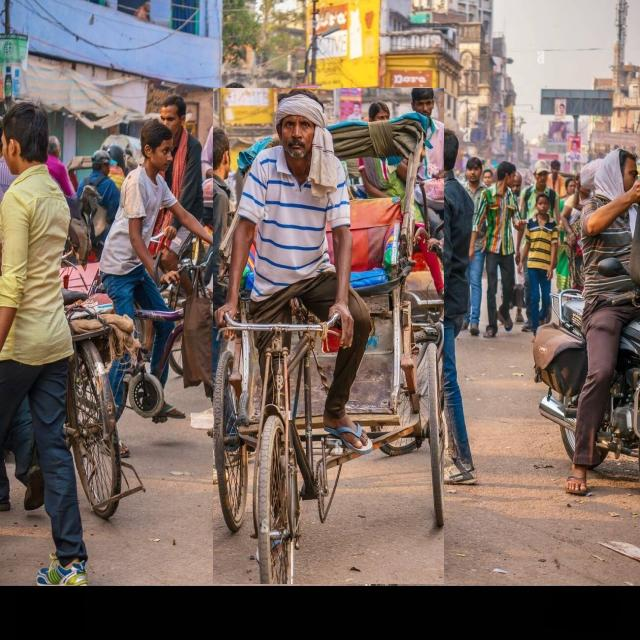bicycle: (214, 89, 444, 584)
